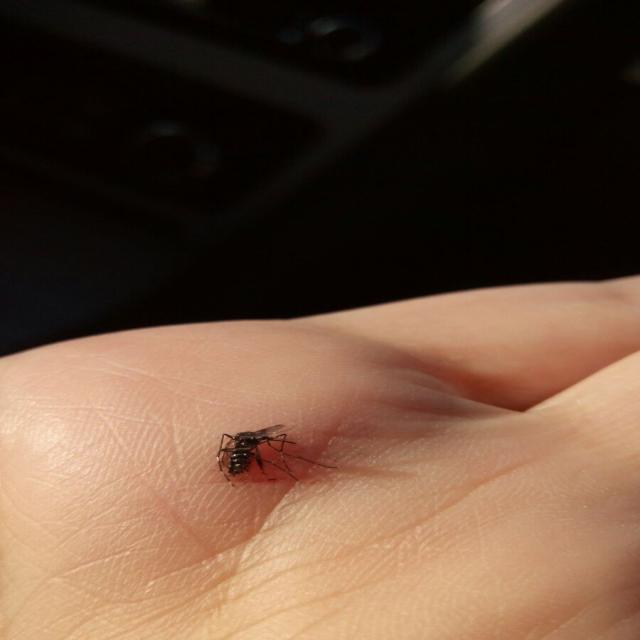albopictus: (208, 418, 340, 488)
